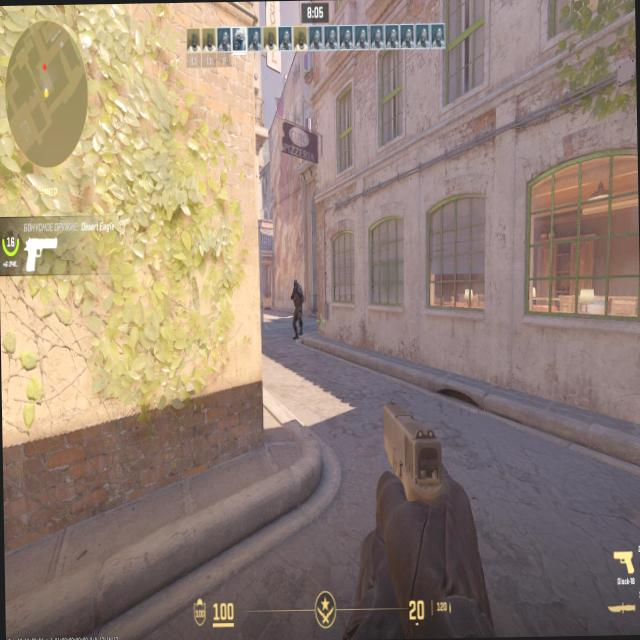CT: (294, 281, 300, 335)
CT_heat: (296, 282, 300, 292)
